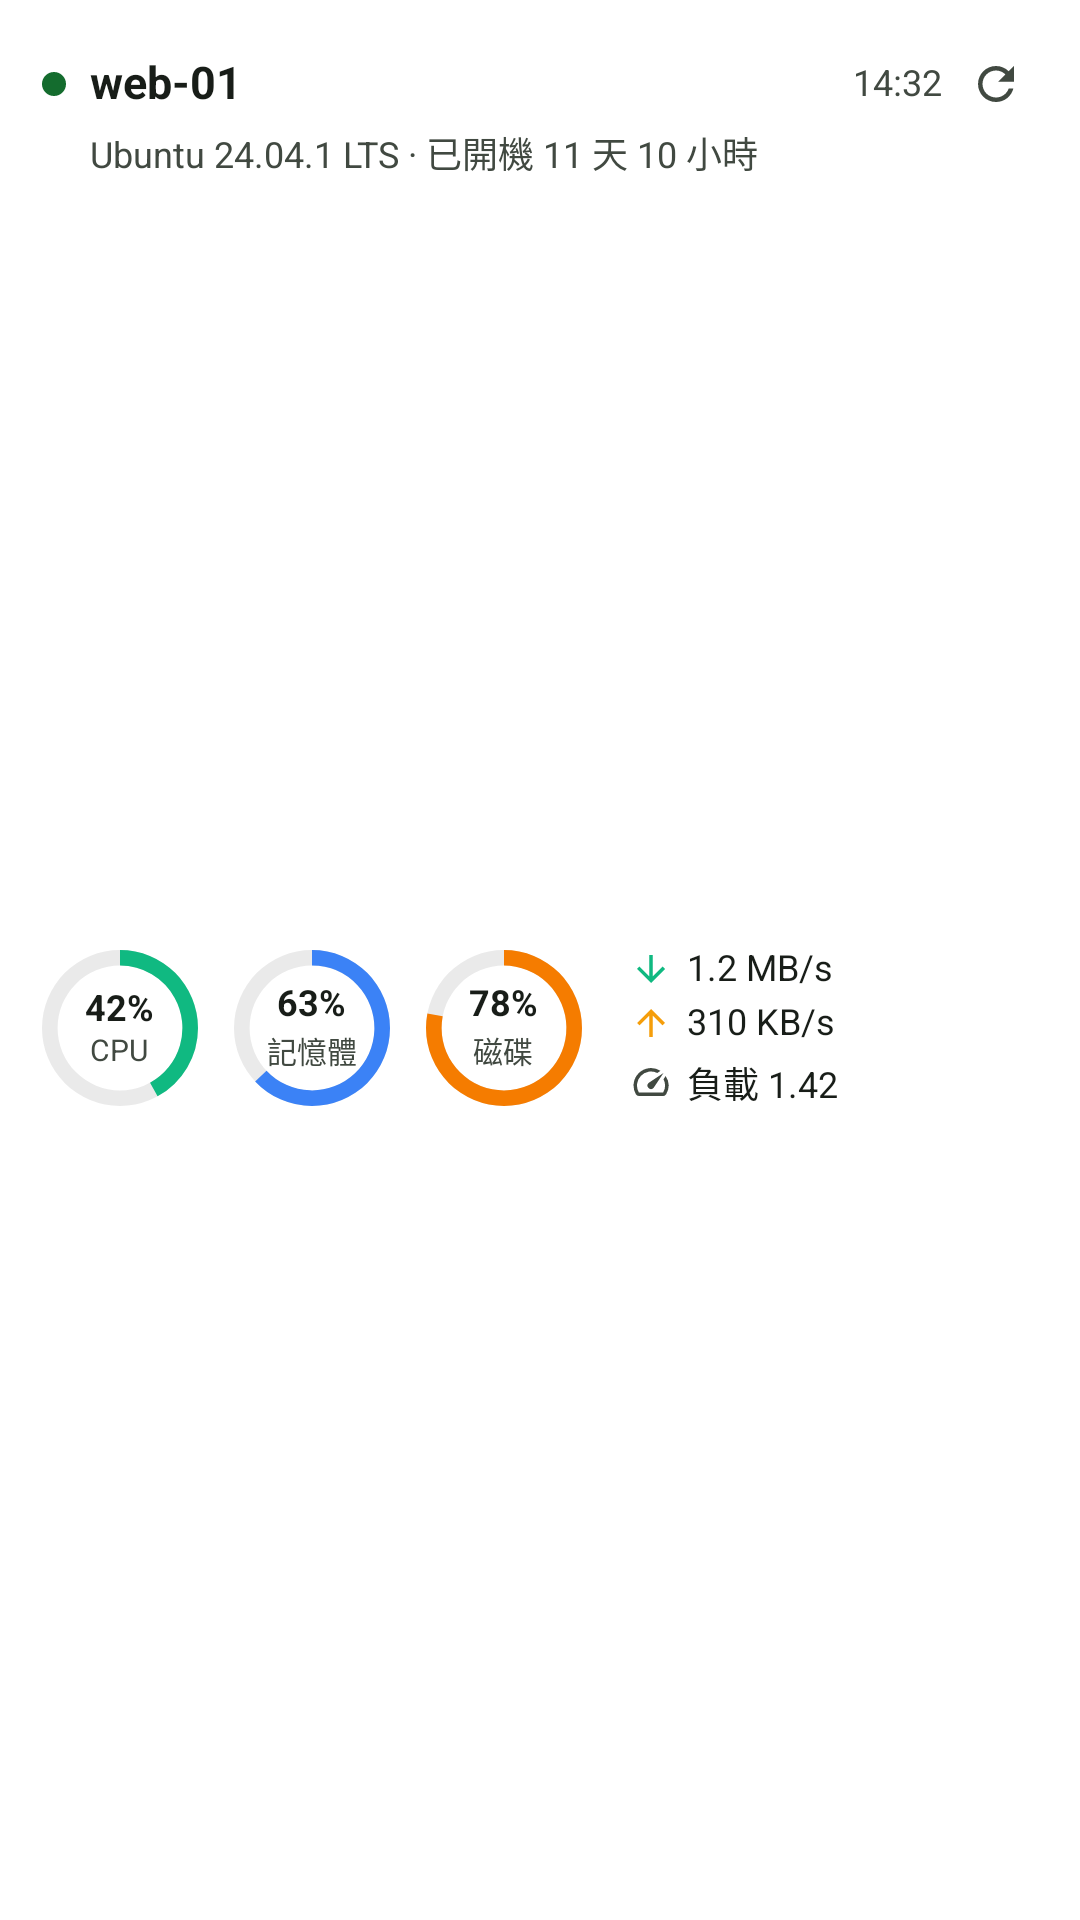

Screen size 1080px×1920px. Icon name, then its center in pixels as (x,y):
widget dot online: (54,84)
widget refresh: (996,84)
